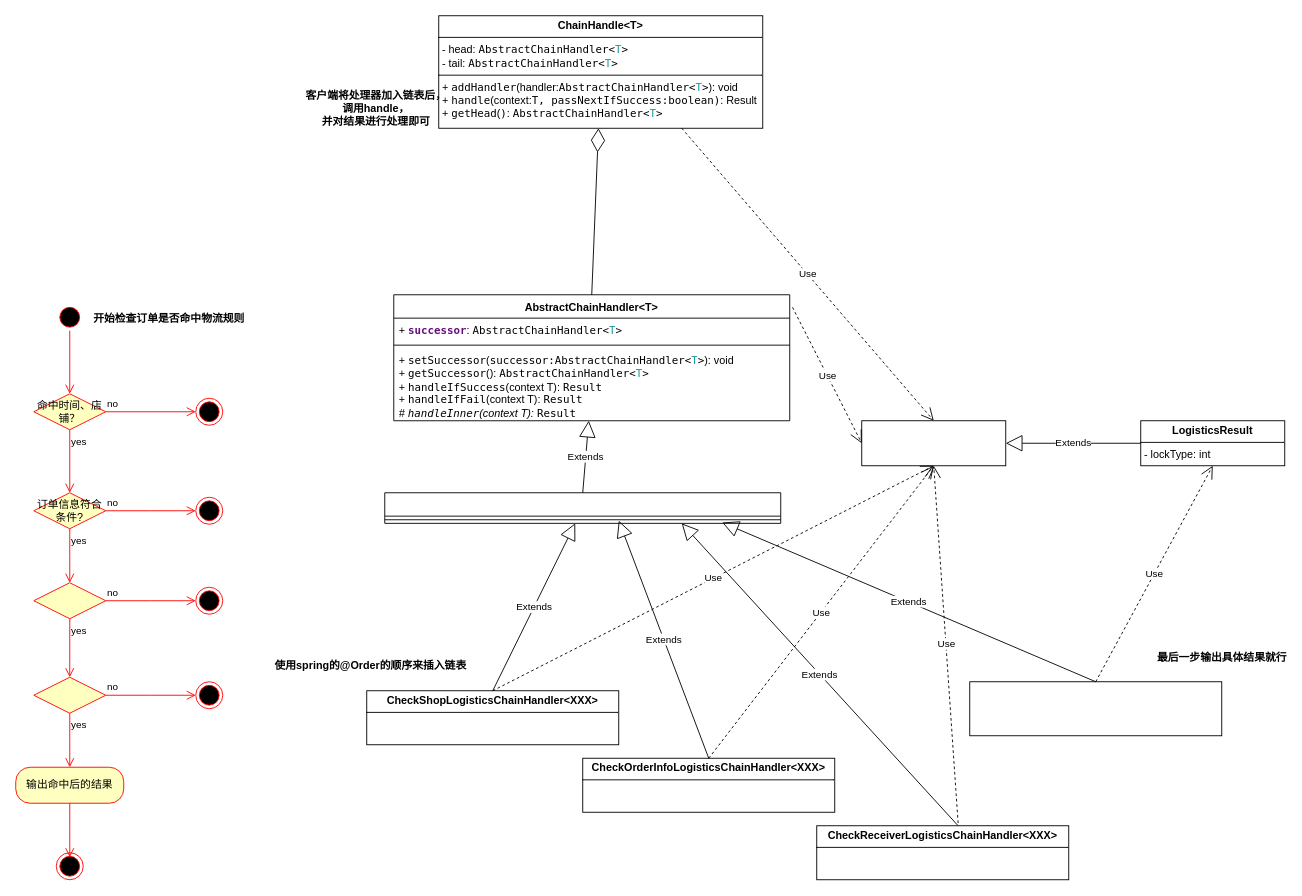
The diagram is 1302 pixels wide and 896 high, and some of its shapes have lost their labels. Here are the shapes that lost their labels. From the top down, the box of each, then its label:
(861, 420, 1006, 466): Result - isSuccess: boolean
(384, 492, 781, 523): AbstractLogisticsChainHandler<T>
(33, 582, 106, 619): 收货人信息是否符合？
(33, 676, 106, 713): 商品信息是否符合？
(969, 681, 1222, 736): CheckSkuLogisticsChainHandler<XXX>
